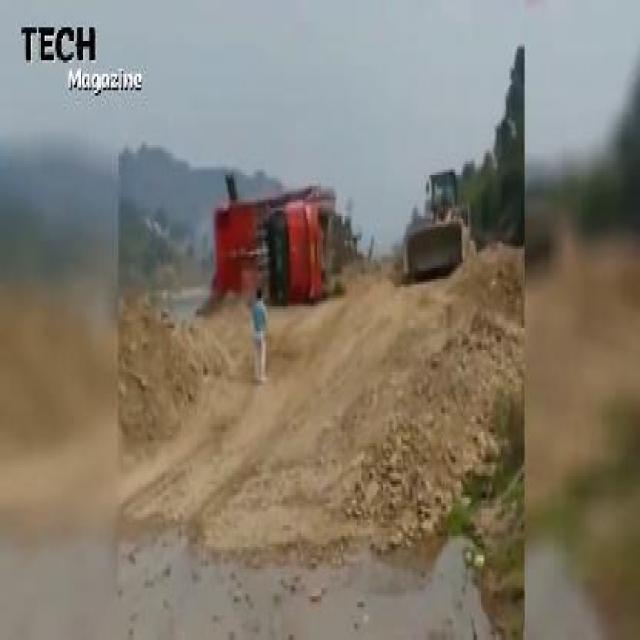accident: (203, 172, 339, 314)
